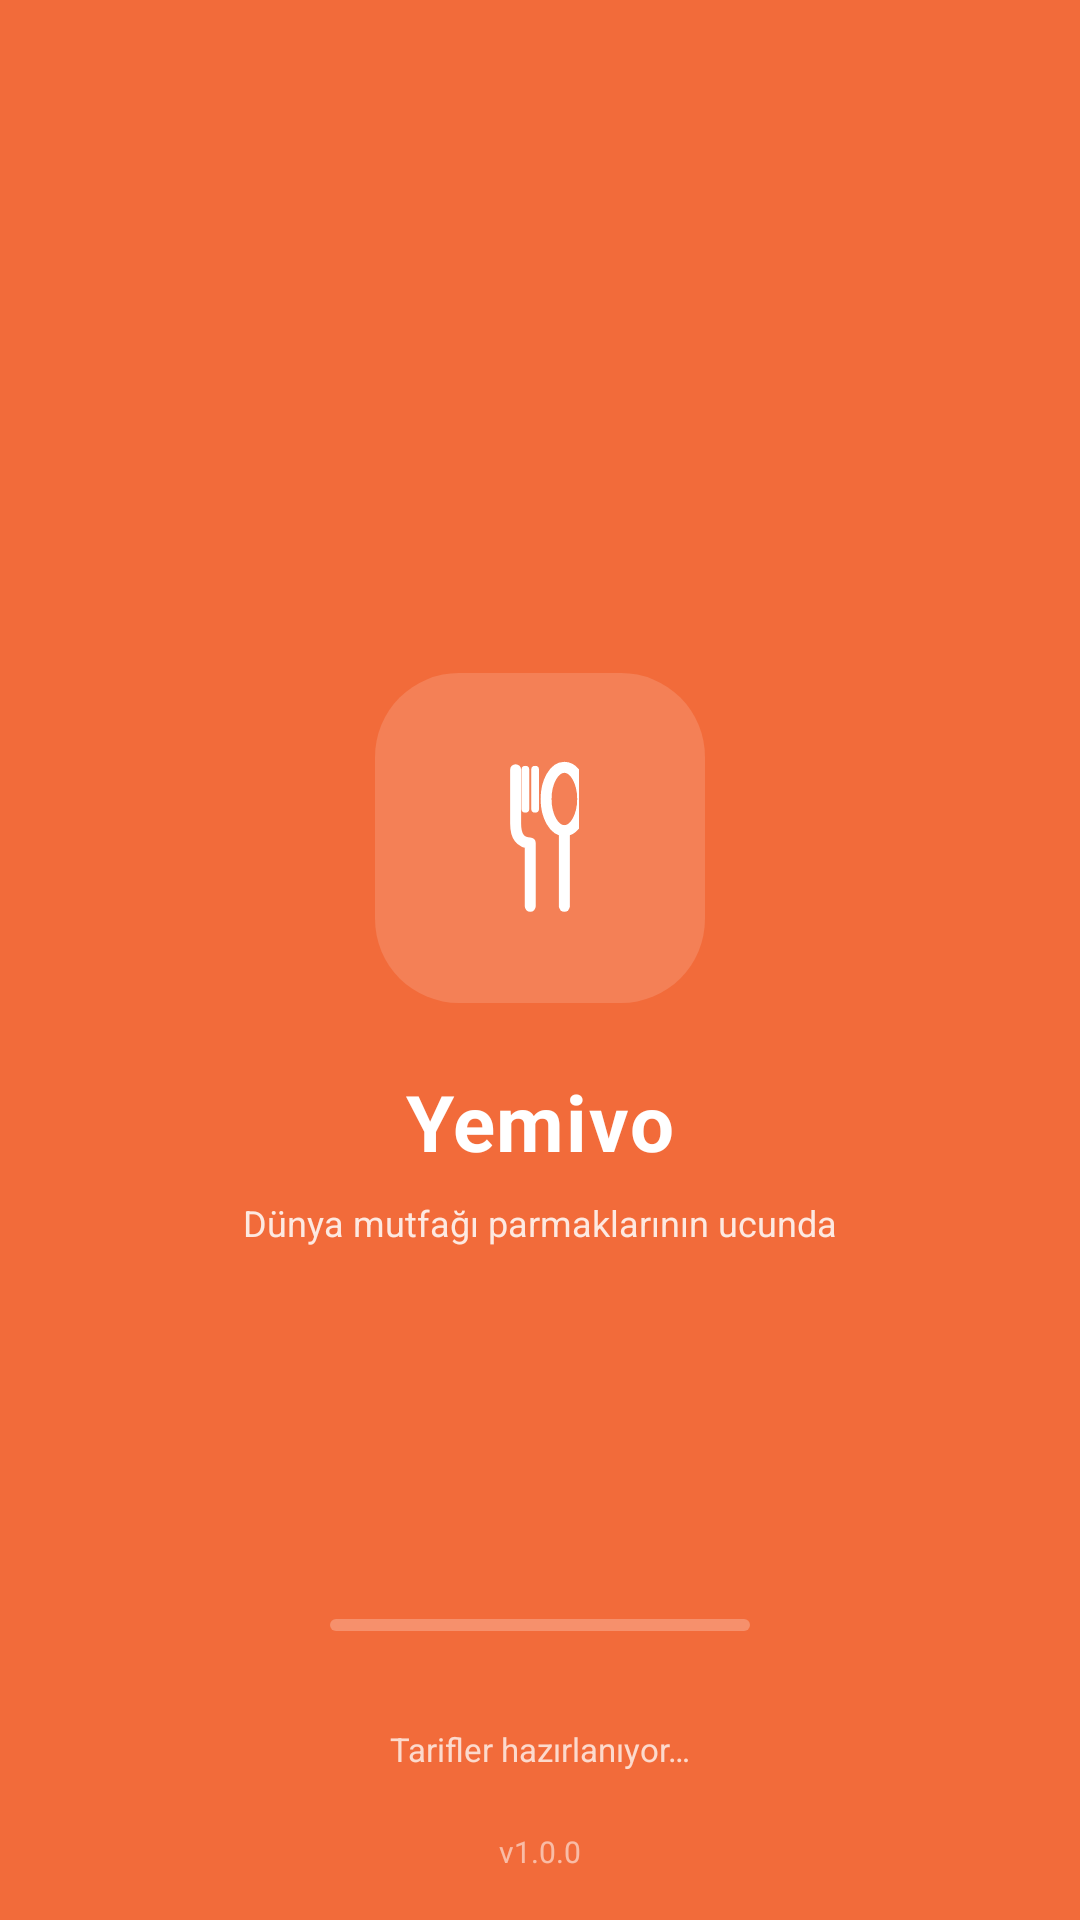

Point at icon controls on the screen. Image size 1080*1920, points as (x=x, y=y).
fork spoon: (x=544, y=836)
